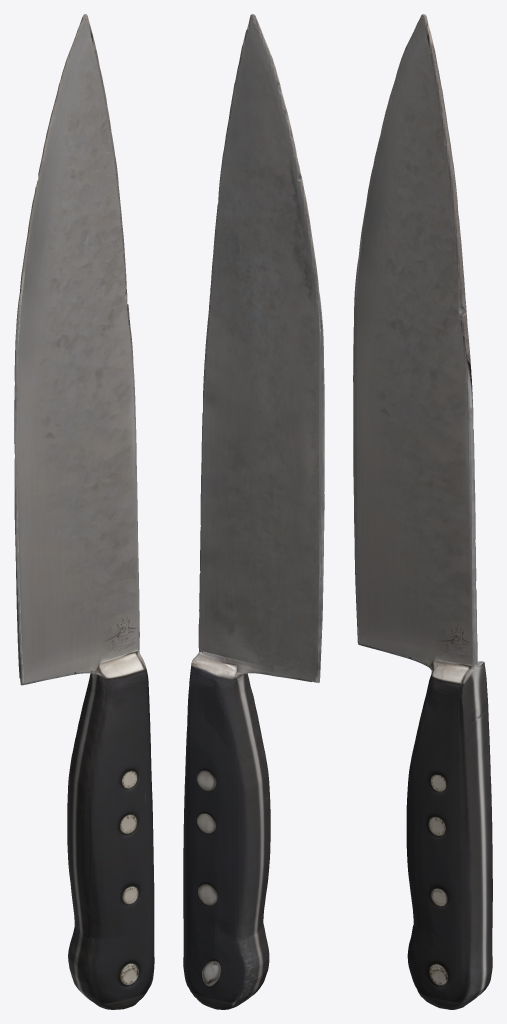
Rendered from Chef_s_Companion_0619062601_texture.fbx.
The picture shows the model from 3 angles, left to right: view 1: azimuth 30°, elevation 25°; view 2: azimuth 150°, elevation 25°; view 3: azimuth 330°, elevation 25°; orthographic projection.
Parts seen in each view (by area): view 1: temp; view 2: temp; view 3: temp.
Part boxes in pixels (<box>): temp: <box>14,14,154,1009</box>; temp: <box>183,14,324,1009</box>; temp: <box>353,14,492,1009</box>.
Size of the model in its own units: 27.97 by 200 by 11.17.
Materials: 1 (1 with a texture image).
